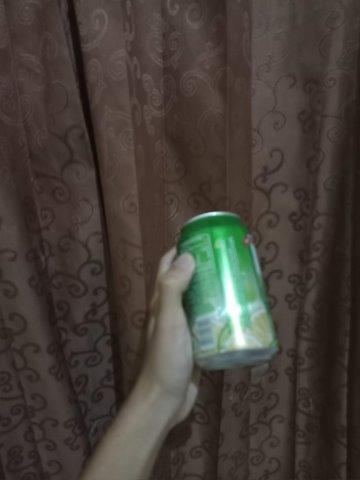kaleng: (176, 211, 277, 372)
